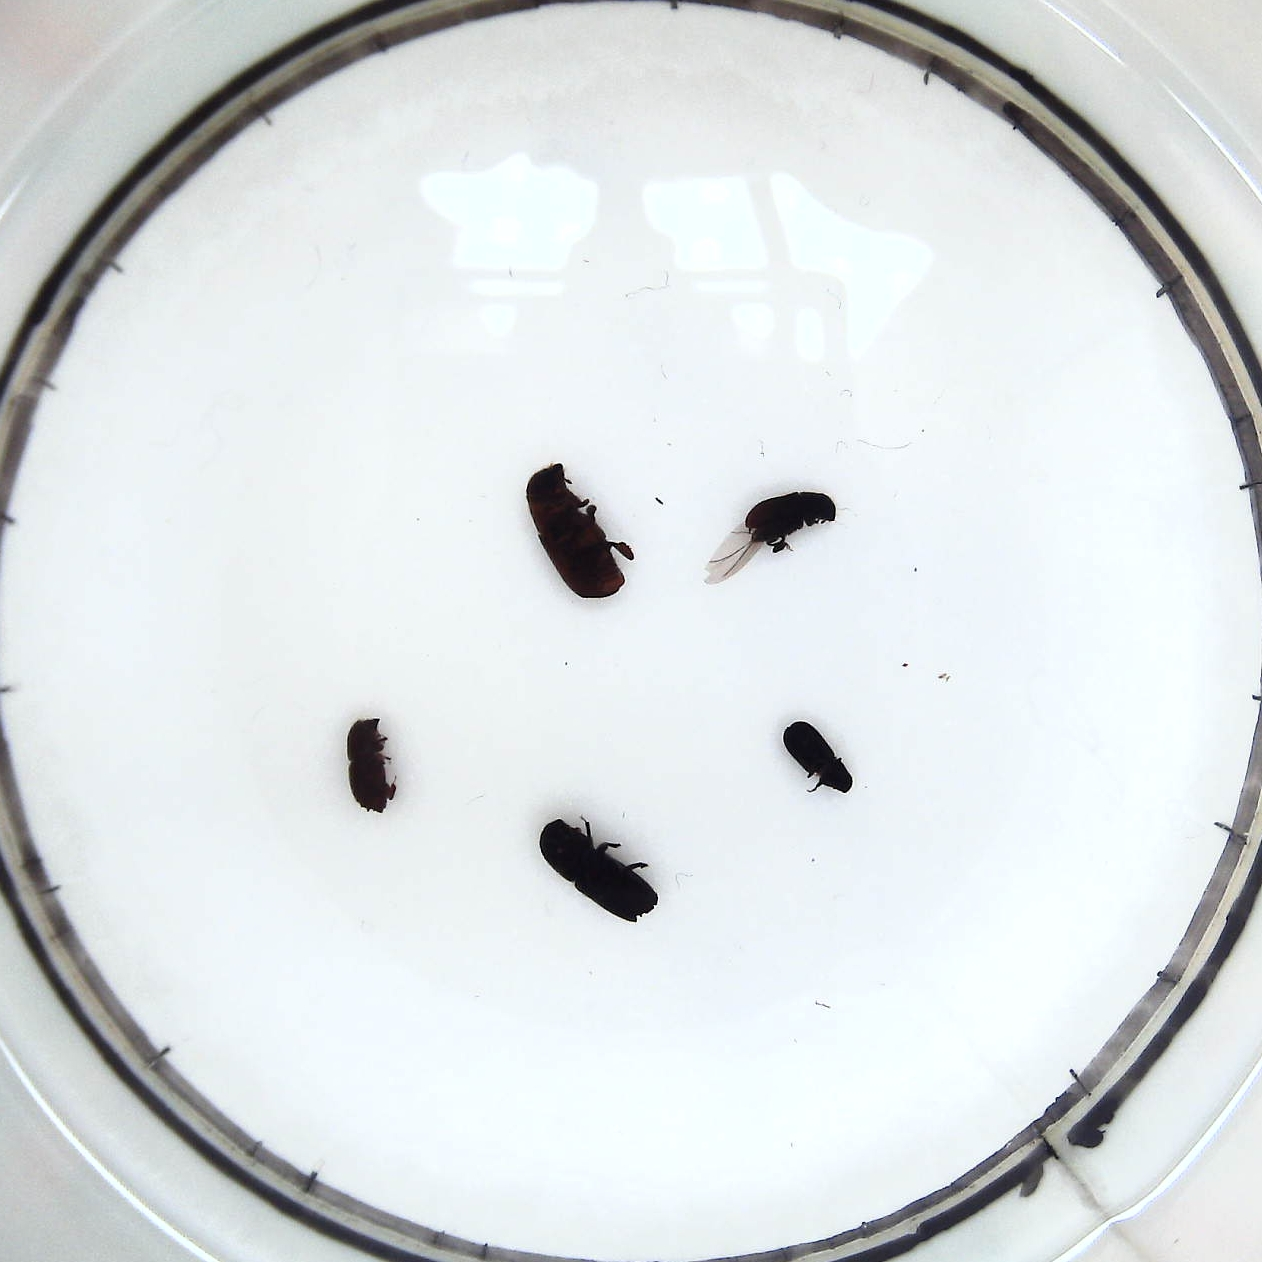Boerner: (532, 811, 661, 928)
Leconte: (520, 460, 639, 606)
armandi: (703, 491, 847, 579)
coleoptera: (778, 718, 859, 801)
linnaeus: (344, 711, 404, 823)
